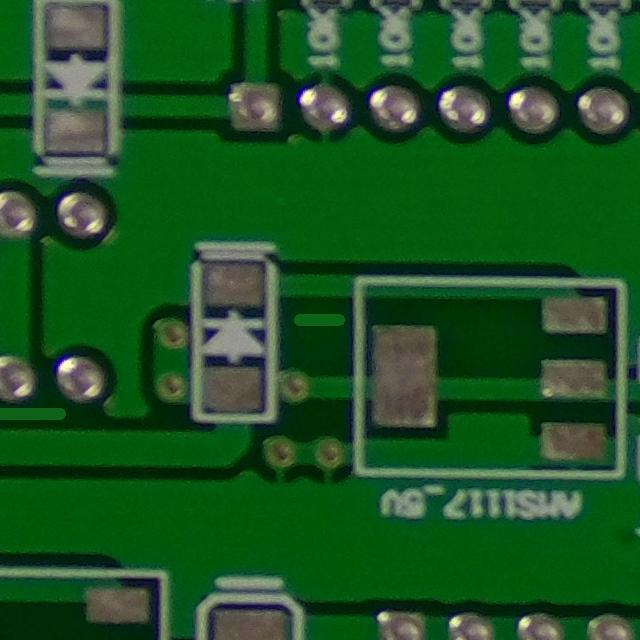spurious_copper: (288, 289, 353, 352)
